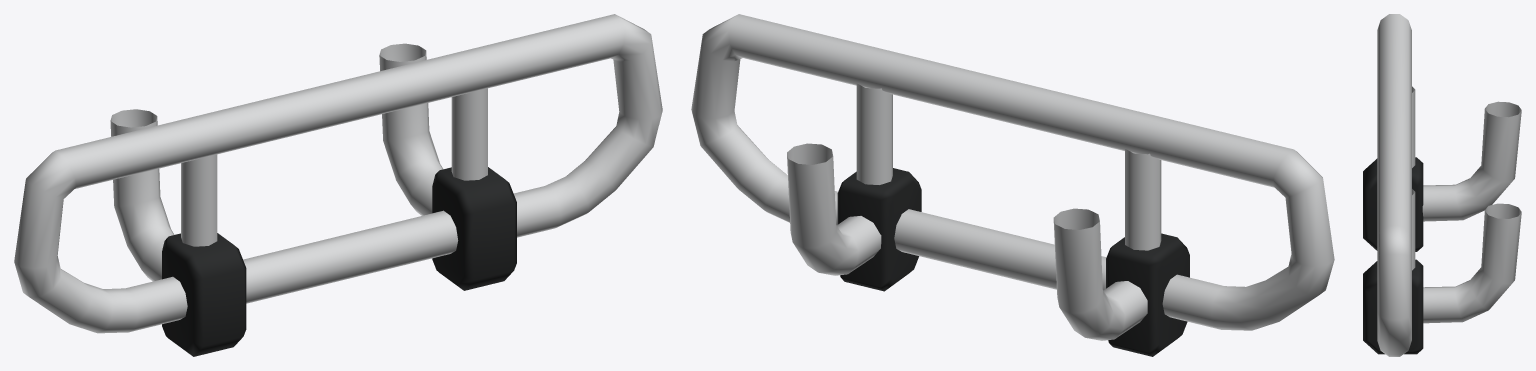
The model's file is Car_12_FrontBumper_Simple.fbx.
The picture shows the model from 3 angles, left to right: view 1: azimuth 30°, elevation 25°; view 2: azimuth 150°, elevation 25°; view 3: azimuth 270°, elevation 25°; orthographic projection. The views are drawn at different scales.
Parts seen in each view (by area): view 1: Car_12_FrontBumper_Simple; view 2: Car_12_FrontBumper_Simple; view 3: Car_12_FrontBumper_Simple.
Part boxes in pixels (x1,y1,x2,y2): Car_12_FrontBumper_Simple: (14,14,662,356); Car_12_FrontBumper_Simple: (691,14,1334,356); Car_12_FrontBumper_Simple: (1363,14,1521,356).
Size of the model in its own units: 130 by 35.79 by 43.74.
